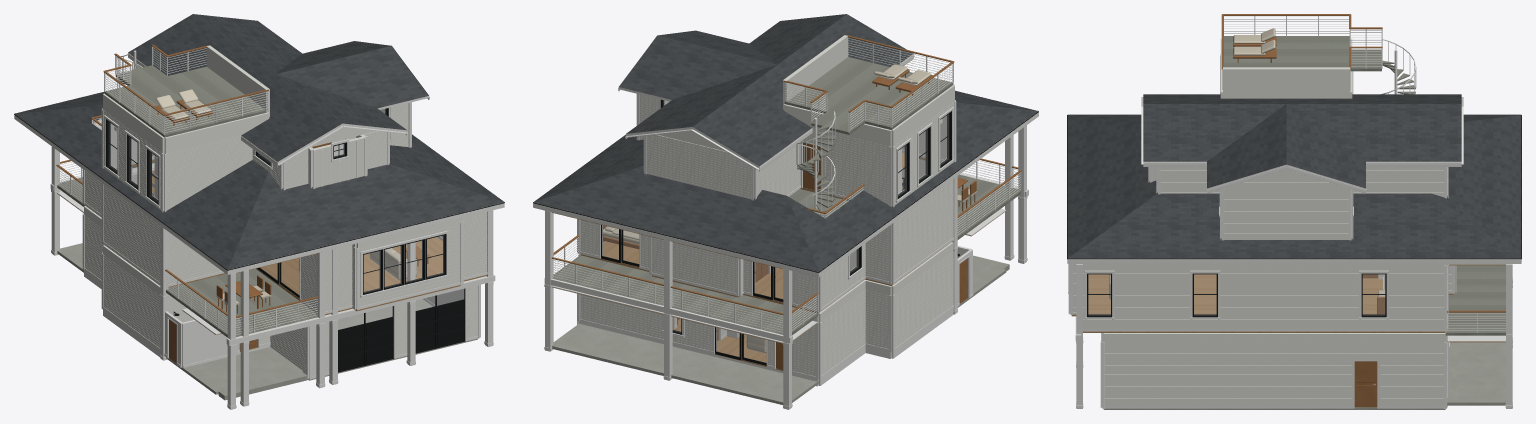
Rendered from lewis-residence.glb.
3 views of the same model, side by side, from view 1: azimuth 30°, elevation 25°; view 2: azimuth 150°, elevation 25°; view 3: azimuth 270°, elevation 25° (orthographic). The views are drawn at different scales.
Parts seen in each view (by area): view 1: exterior-roof-slope-roof, roof-roof-slope-roof, exterior-static-ivory, floor-2-static-siding, floor-1-static-siding, floor-3-static-siding, roof-static-deck, floor-2-static-ivory, floor-1-static-concrete, floor-2-static-deck, floor-1-static-ivory, roof-static-siding (+19 smaller); view 2: exterior-roof-slope-roof, roof-roof-slope-roof, floor-1-static-siding, floor-3-static-siding, floor-2-static-siding, exterior-static-ivory, floor-1-static-concrete, floor-2-static-deck, floor-2-static-ivory, roof-static-deck, floor-1-static-ivory, roof-static-siding (+21 smaller); view 3: exterior-roof-slope-roof, floor-1-static-siding, roof-roof-slope-roof, floor-2-static-siding, floor-3-static-siding, floor-1-static-concrete, roof-static-siding, floor-2-static-deck, roof-static-deck, floor-2-static-ivory, floor-2-static-oak, floor-2-static-glass (+13 smaller).
Boxes of the visible parts, x1=… form: exterior-roof-slope-roof: x1=15, y1=92, x2=504, y2=269; roof-roof-slope-roof: x1=128, y1=14, x2=429, y2=163; exterior-static-ivory: x1=50, y1=146, x2=495, y2=409; floor-2-static-siding: x1=84, y1=129, x2=487, y2=311; floor-1-static-siding: x1=84, y1=206, x2=477, y2=378; floor-3-static-siding: x1=103, y1=103, x2=408, y2=210; roof-static-deck: x1=104, y1=65, x2=267, y2=137; floor-2-static-ivory: x1=57, y1=161, x2=487, y2=334; floor-1-static-concrete: x1=57, y1=243, x2=477, y2=400; floor-2-static-deck: x1=57, y1=177, x2=317, y2=337; floor-1-static-ivory: x1=82, y1=213, x2=480, y2=379; roof-static-siding: x1=103, y1=45, x2=269, y2=153; exterior-roof-slope-roof: x1=533, y1=91, x2=1038, y2=271; roof-roof-slope-roof: x1=618, y1=14, x2=913, y2=168; floor-1-static-siding: x1=578, y1=242, x2=953, y2=378; floor-3-static-siding: x1=639, y1=94, x2=954, y2=205; floor-2-static-siding: x1=580, y1=159, x2=953, y2=310; exterior-static-ivory: x1=544, y1=125, x2=1028, y2=409; floor-1-static-concrete: x1=552, y1=255, x2=1009, y2=404; floor-2-static-deck: x1=552, y1=174, x2=1020, y2=335; floor-2-static-ivory: x1=552, y1=160, x2=1020, y2=332; roof-static-deck: x1=784, y1=57, x2=953, y2=134; floor-1-static-ivory: x1=577, y1=245, x2=973, y2=386; roof-static-siding: x1=783, y1=35, x2=954, y2=146; exterior-roof-slope-roof: x1=1067, y1=115, x2=1521, y2=258; floor-1-static-siding: x1=1101, y1=333, x2=1447, y2=407; roof-roof-slope-roof: x1=1143, y1=94, x2=1461, y2=189; floor-2-static-siding: x1=1073, y1=264, x2=1455, y2=330; floor-3-static-siding: x1=1157, y1=71, x2=1447, y2=239; floor-1-static-concrete: x1=1103, y1=342, x2=1505, y2=409; roof-static-siding: x1=1220, y1=38, x2=1352, y2=98; floor-2-static-deck: x1=1445, y1=265, x2=1505, y2=335; roof-static-deck: x1=1224, y1=36, x2=1381, y2=71; floor-2-static-ivory: x1=1068, y1=264, x2=1505, y2=332; floor-2-static-oak: x1=1071, y1=274, x2=1453, y2=332; floor-2-static-glass: x1=1088, y1=274, x2=1384, y2=315.
Size of the model in its own units: 13.06 by 11.07 by 17.42.
22 materials, 14 textured.
